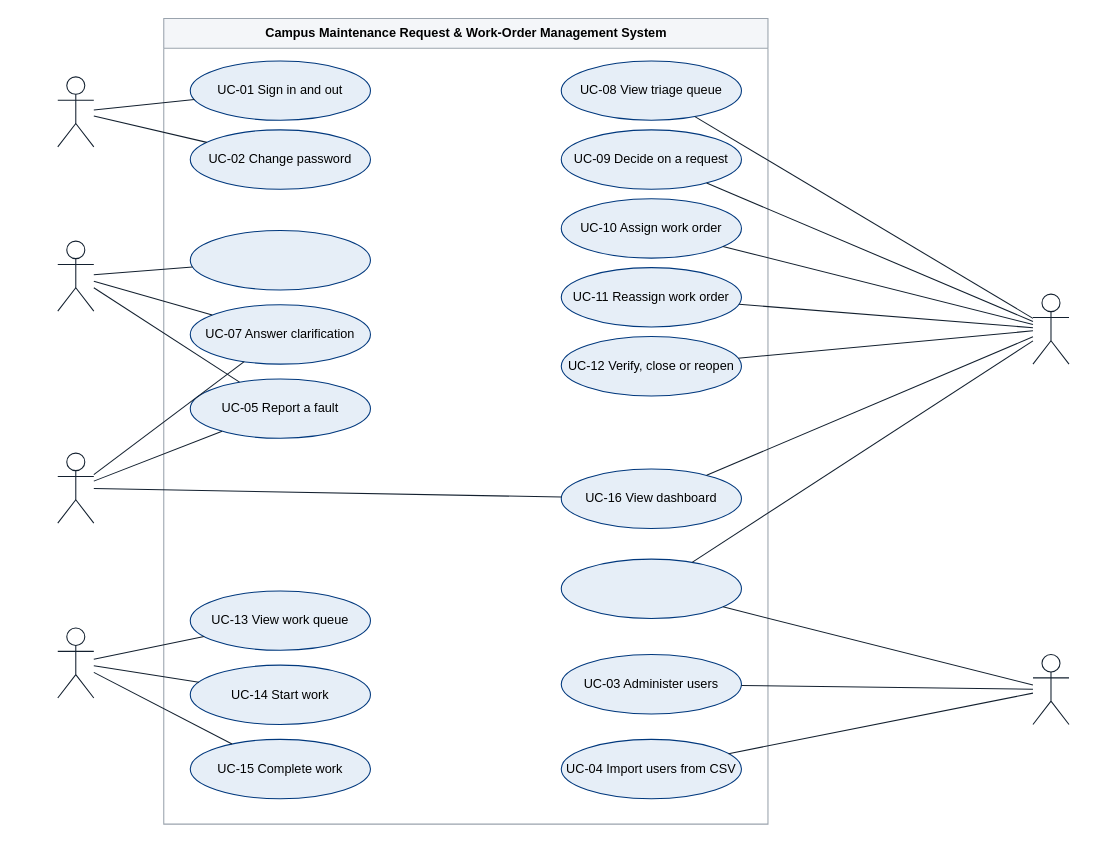
The diagram is 1101 pixels wide and 843 high, and some of its shapes have lost their labels. Here are the shapes that lost their labels. From the top down, the centre of each, then its label:
At pixel 75 111: "Any signed-in user".
At pixel 75 275: "Resident".
At pixel 279 259: "UC-06 Track requests".
At pixel 1050 328: "Supervisor".
At pixel 75 487: "Warden".
At pixel 650 588: "UC-18 Review audit history".
At pixel 75 662: "Technician".
At pixel 1050 689: "Admin".
